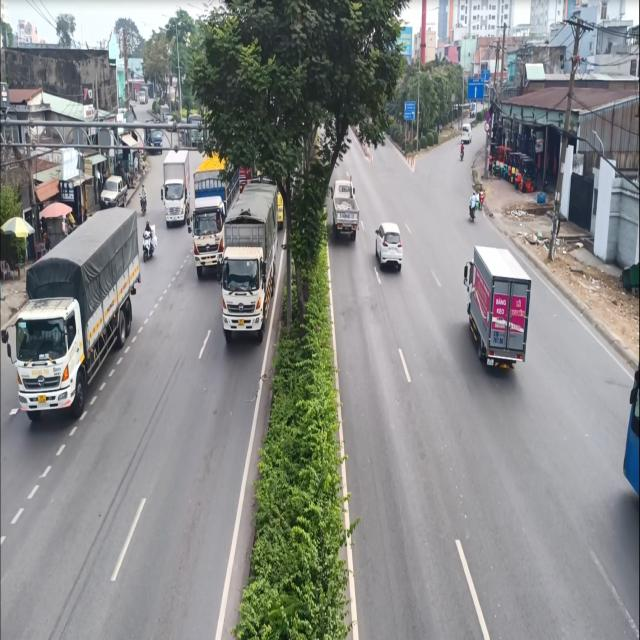car: (371, 216, 408, 281)
truck: (12, 200, 144, 429), (460, 236, 535, 386), (225, 173, 279, 347), (193, 148, 230, 274), (162, 141, 189, 233), (329, 176, 362, 246), (142, 218, 158, 259)
